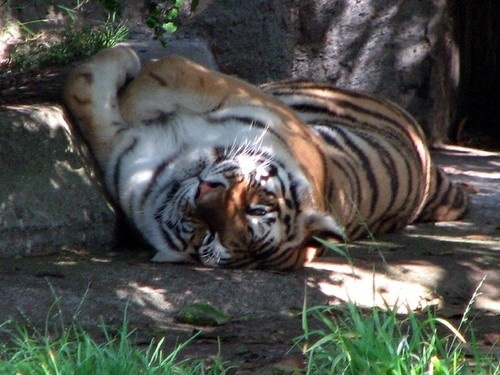tigre: (63, 41, 475, 267)
